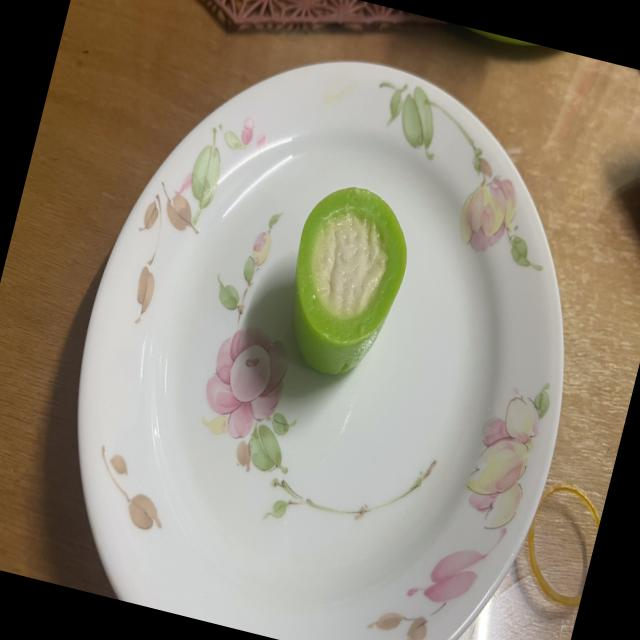nona-manis: (294, 186, 406, 374)
